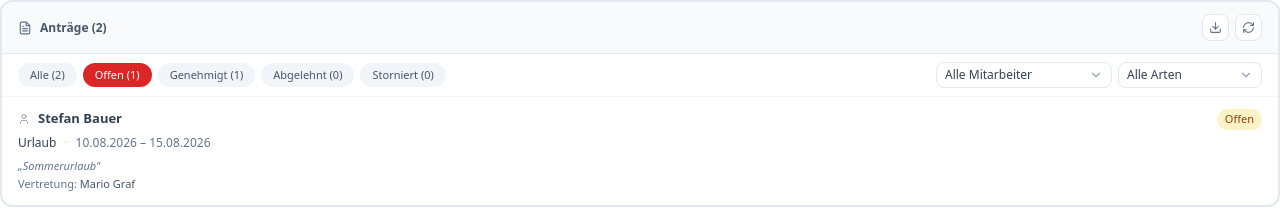
Test: LeaveRequestsList — per-employee filter for approvers › does not include per-employee options for non-approvers
The width and height of the screenshot is (1280, 224).
Expected: the text "Stefan Bauer" is shown, [38, 109, 122, 128]
Click the button with aria-label "Mitarbeiter filtern".
click(1024, 75)  # box [936, 62, 1112, 88]
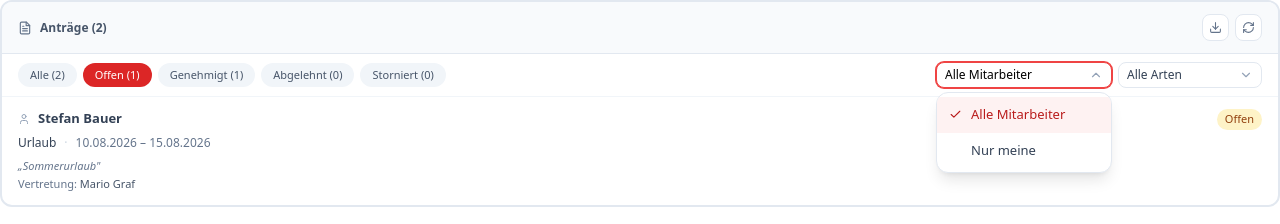
Expected: the option "Alle Mitarbeiter" is shown, [937, 97, 1111, 132]
Expected: the option "Nur meine" is shown, [937, 132, 1111, 168]
